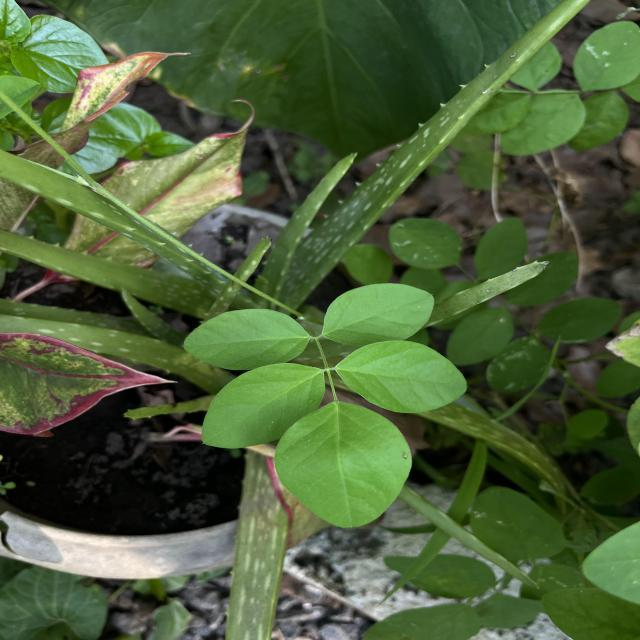Clitoria ternatea: (272, 400, 414, 530), (200, 362, 328, 450), (336, 338, 470, 414), (182, 307, 312, 371), (320, 282, 436, 347)
